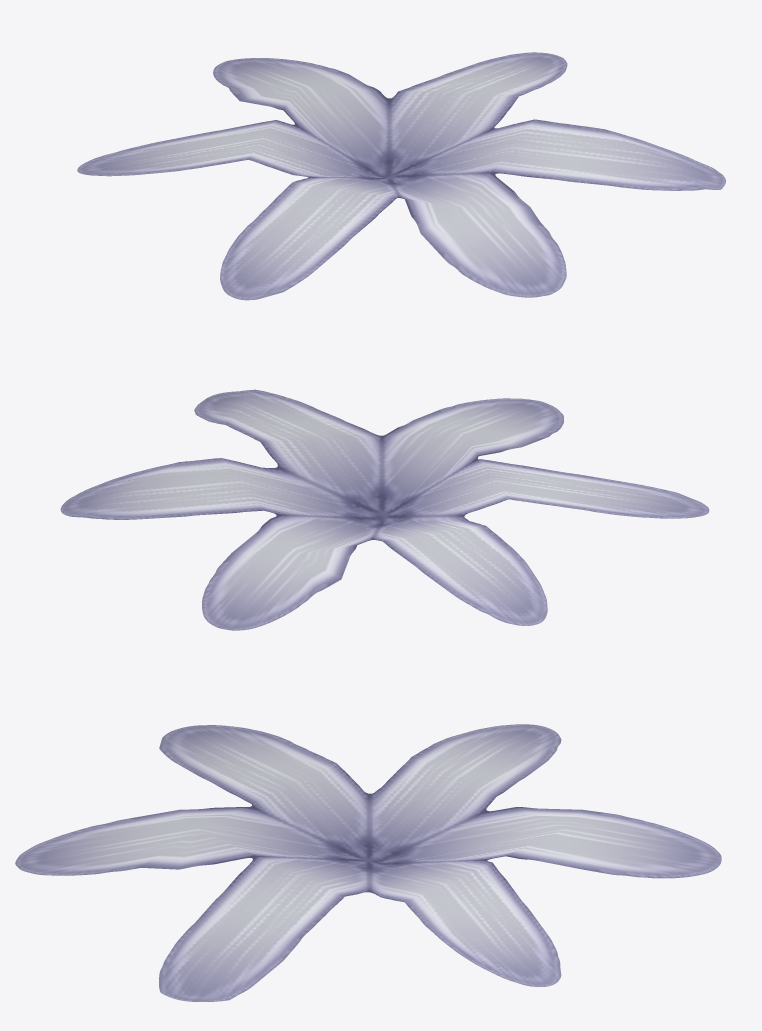
Rendered from Flower08.glb.
3 views of the same model, one above another, from view 1: azimuth 30°, elevation 25°; view 2: azimuth 150°, elevation 25°; view 3: azimuth 270°, elevation 25° (orthographic). The views are drawn at different scales.
Parts seen in each view (by area): view 1: Flower08; view 2: Flower08; view 3: Flower08.
Boxes of the visible parts, left/top/right/bottom form: Flower08: left=77, top=52, right=725, bottom=300; Flower08: left=60, top=389, right=709, bottom=630; Flower08: left=15, top=724, right=721, bottom=1001.
Size of the model in its own units: 0.6029 by 0.0375 by 0.6029.
Materials: 1 (1 with a texture image).
